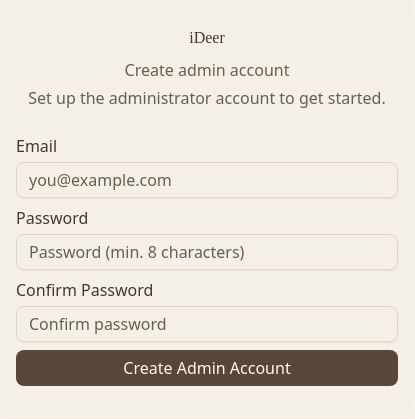
SetupPage › init_admin shows password mismatch error
This screenshot has width=415, height=419.
In the field labelled "Email": (207, 180) [16,162,398,198], type "admin@test.com"
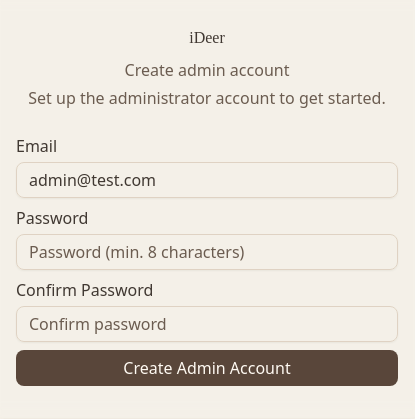
In the password field labelled "Password": (207, 252) [16,234,398,270], type "password123"
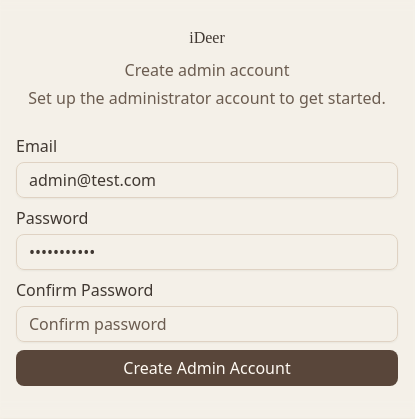
In the password field labelled "Confirm Password": (207, 324) [16,306,398,342], type "different123"
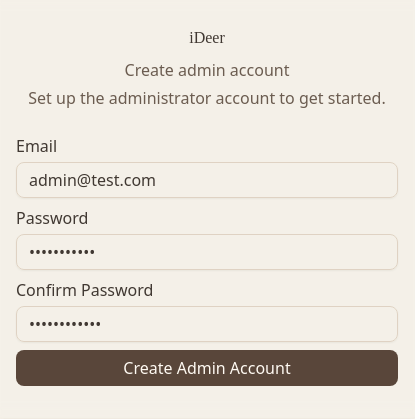
Submit the form labelled "Email", box [16,134,398,386]
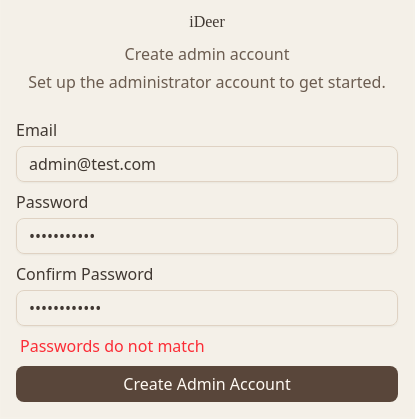
Now the text "Passwords do not match" is shown, box [20,335,205,357]
